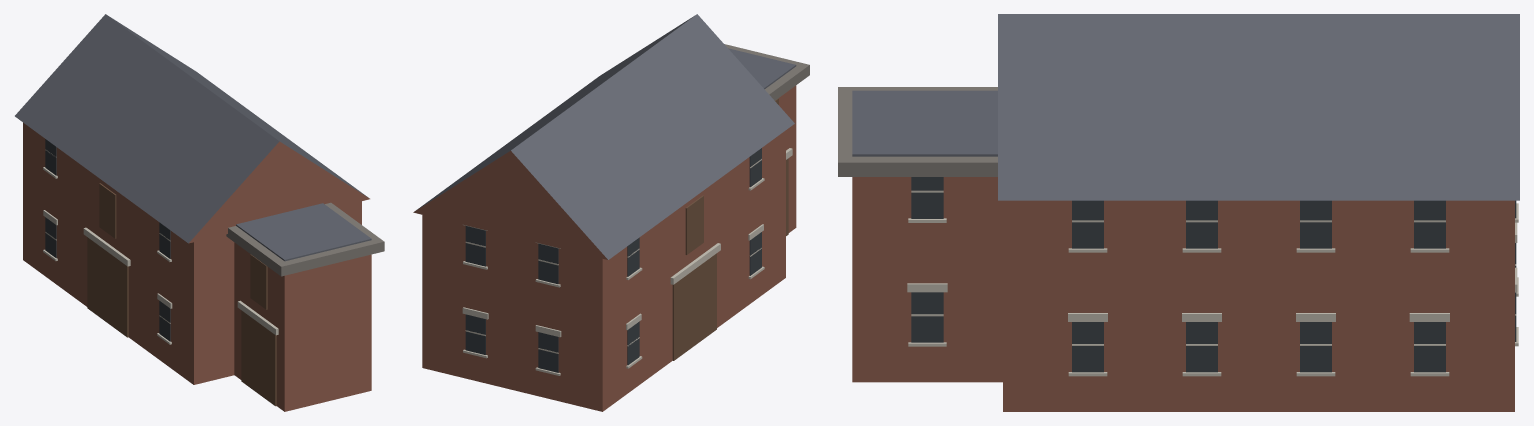
File: buckingham_house_2036_prairie_coach_house__draft_1904.glb
3 renders of one model, left to right at view 1: azimuth 30°, elevation 25°; view 2: azimuth 150°, elevation 25°; view 3: azimuth 270°, elevation 25°, orthographic. The views are drawn at different scales.
Visible parts, largest first — view 1: buckingham_house_2036_prairie_coach_house__draft_1904; view 2: buckingham_house_2036_prairie_coach_house__draft_1904; view 3: buckingham_house_2036_prairie_coach_house__draft_1904.
Boxes of the visible parts, x1,y1,x2,y2 form: buckingham_house_2036_prairie_coach_house__draft_1904: (15,14,384,411); buckingham_house_2036_prairie_coach_house__draft_1904: (413,14,809,411); buckingham_house_2036_prairie_coach_house__draft_1904: (838,14,1519,411).
Size of the model in its own units: 7.85 by 9.24 by 16.97.
